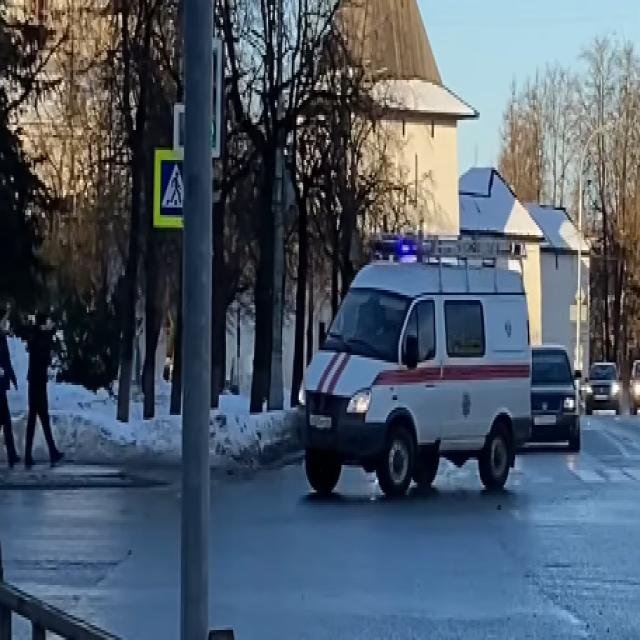ambulance: (297, 232, 532, 502)
non emergency car: (532, 344, 582, 454), (584, 362, 623, 417)
